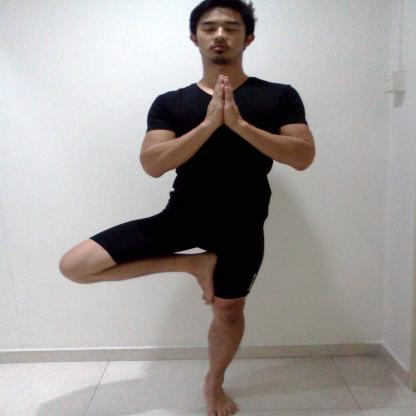tree: (53, 0, 338, 416)
